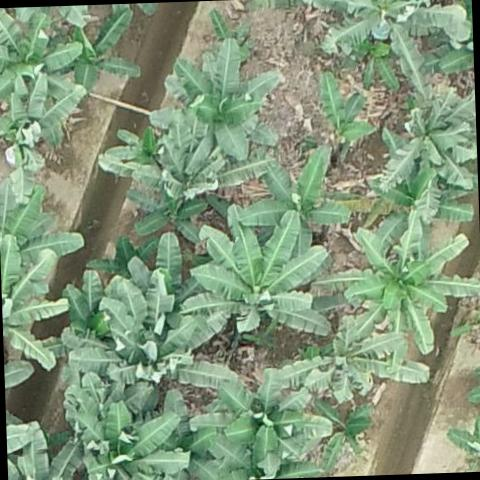Banana-plant: (66, 241, 225, 394), (345, 219, 480, 354), (191, 215, 334, 336), (98, 118, 274, 198), (316, 0, 465, 85), (374, 104, 477, 224), (174, 47, 278, 164), (222, 359, 324, 466), (288, 321, 424, 398), (246, 155, 347, 254), (73, 397, 183, 480), (0, 5, 85, 102), (56, 13, 137, 88), (318, 71, 371, 142)
